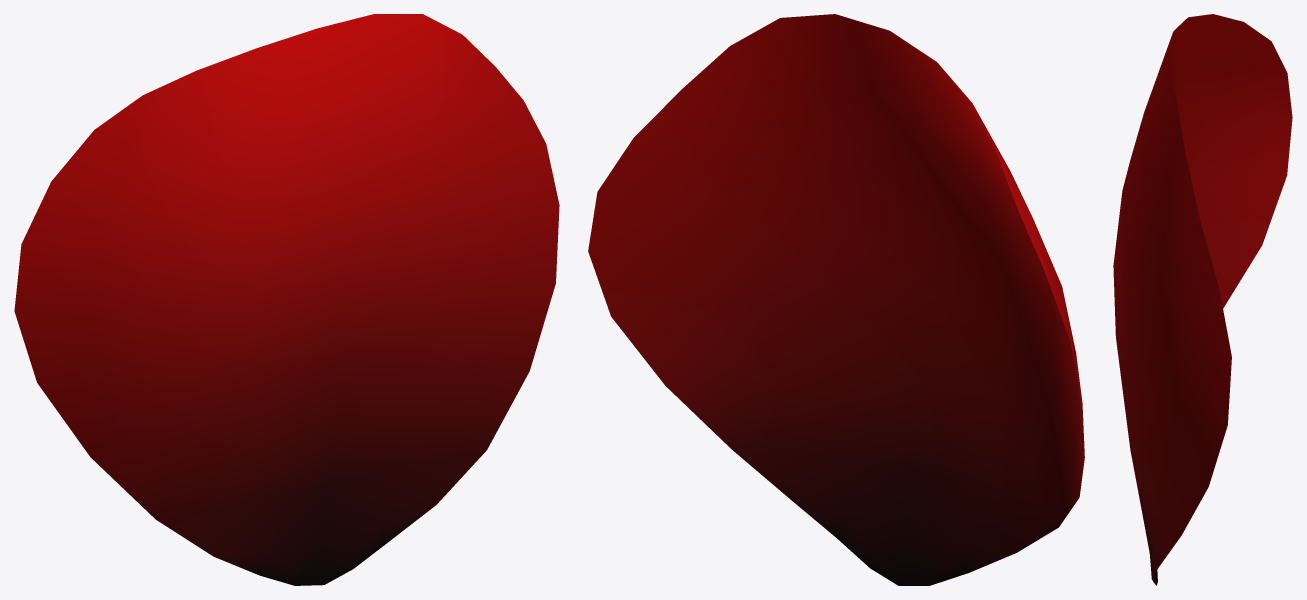
3 views of the same model, side by side, from view 1: azimuth 30°, elevation 25°; view 2: azimuth 150°, elevation 25°; view 3: azimuth 270°, elevation 25° (orthographic).
Visible parts, largest first — view 1: gorgonian coral final.002; view 2: gorgonian coral final.002; view 3: gorgonian coral final.002.
Part boxes in pixels (x1,y1,x2,y2): gorgonian coral final.002: (14, 14, 559, 585); gorgonian coral final.002: (588, 14, 1084, 585); gorgonian coral final.002: (1113, 14, 1292, 585).
Size of the model in its own units: 1.64 by 1.68 by 0.4941.
